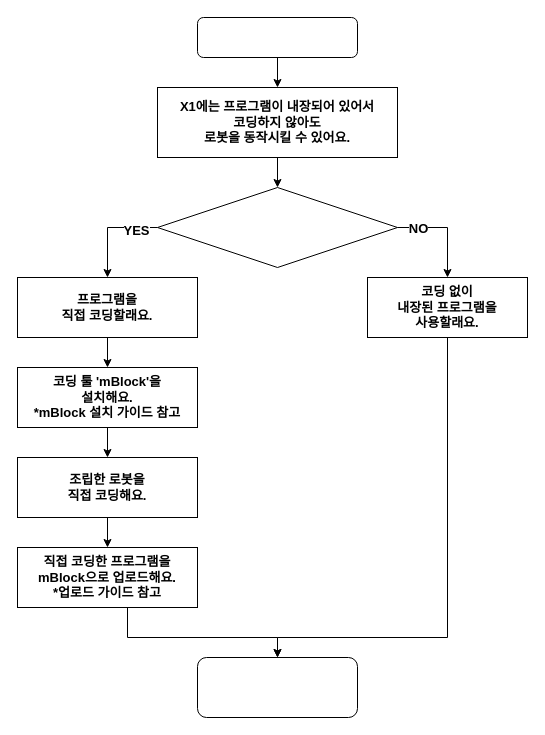
The diagram is 545 pixels wide and 735 high, and some of its shapes have lost their labels. Here are the shapes that lost their labels. From the top down, the box of each, then its label:
(196, 16, 358, 58): X1 로봇을 완성했을 때
(156, 186, 398, 268): 내장된 프로그램을 사용하는 대신 직접 코딩하실 건가요?
(196, 656, 358, 718): 이제 로봇을 동작시켜요! *로봇 동작 가이드 참고
